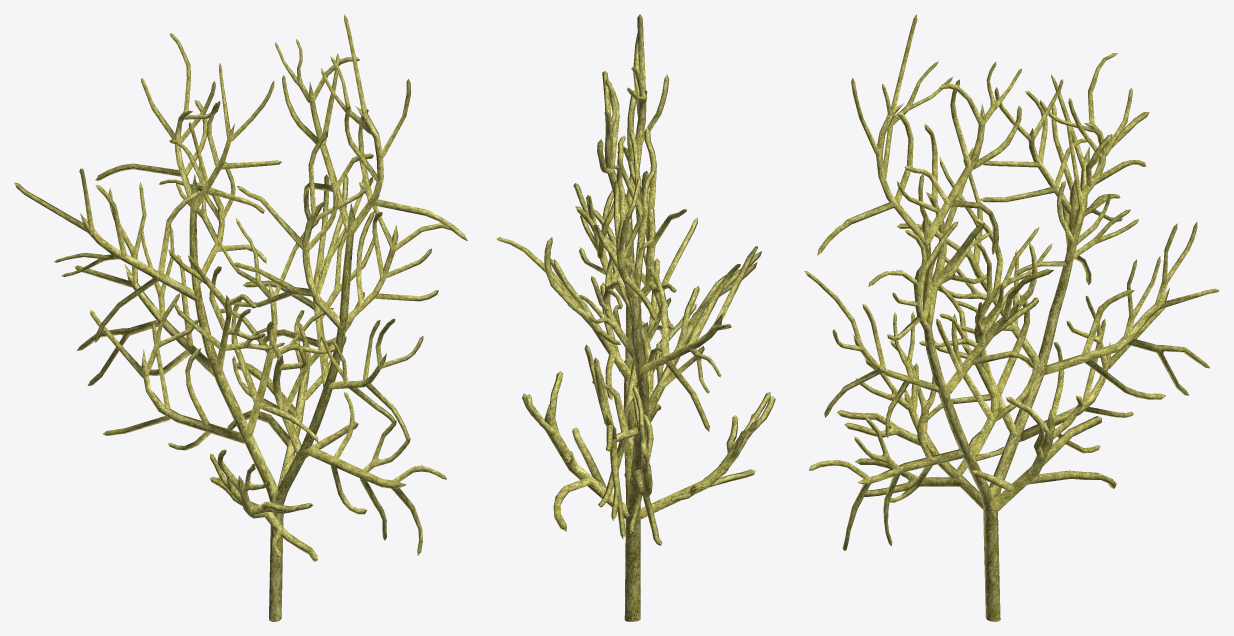
File: FanCoralCluster.011_FBX_still.fbx
3 renders of one model, left to right at view 1: azimuth 30°, elevation 25°; view 2: azimuth 150°, elevation 25°; view 3: azimuth 270°, elevation 25°, orthographic. The views are drawn at different scales.
Visible parts, largest first — view 1: FanCoralCluster.011_gameasset; view 2: FanCoralCluster.011_gameasset; view 3: FanCoralCluster.011_gameasset.
Part boxes in pixels (left/top/right/bottom): FanCoralCluster.011_gameasset: left=14, top=14, right=467, bottom=621; FanCoralCluster.011_gameasset: left=496, top=14, right=775, bottom=621; FanCoralCluster.011_gameasset: left=804, top=14, right=1219, bottom=621.
Size of the model in its own units: 1.5 by 2.91 by 1.77.
1 material, 1 textured.
